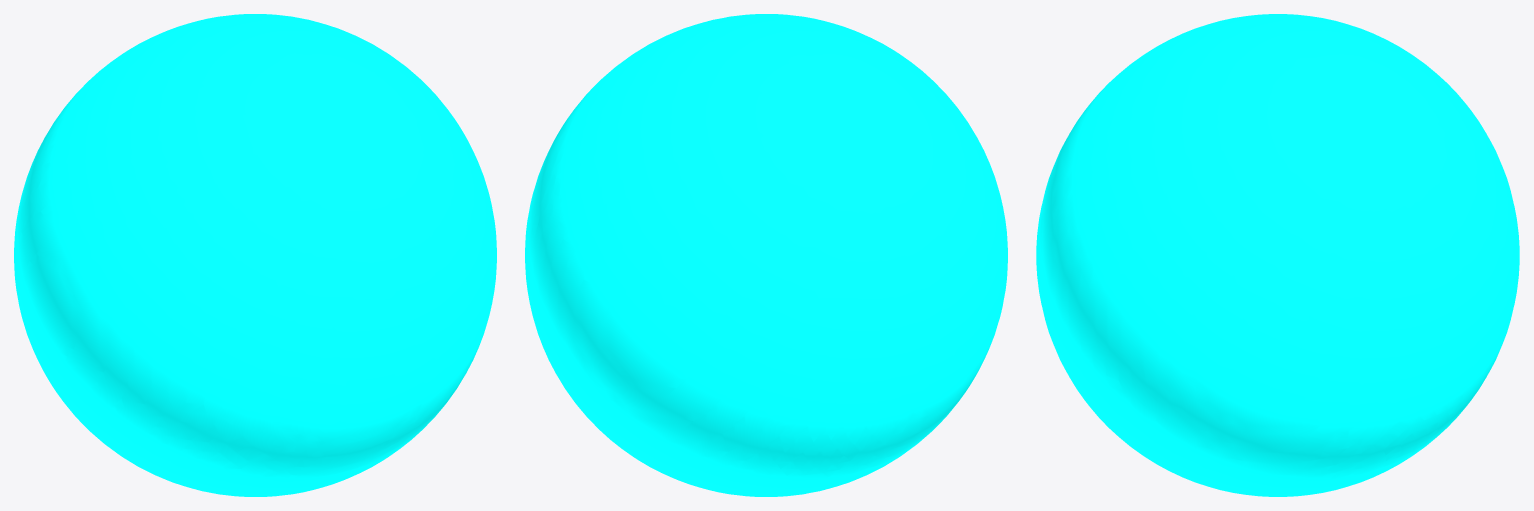
The model's file is orbital_n2_l0_m0_complex_phase.fbx.
3 renders of one model, left to right at view 1: azimuth 30°, elevation 25°; view 2: azimuth 150°, elevation 25°; view 3: azimuth 270°, elevation 25°, orthographic.
Parts seen in each view (by area): view 1: orbital_n2_l0_m0_complex_phase; view 2: orbital_n2_l0_m0_complex_phase; view 3: orbital_n2_l0_m0_complex_phase.
Boxes of the visible parts, bbox=[...] form: orbital_n2_l0_m0_complex_phase: bbox=[14, 14, 496, 496]; orbital_n2_l0_m0_complex_phase: bbox=[525, 14, 1007, 496]; orbital_n2_l0_m0_complex_phase: bbox=[1036, 14, 1519, 496].
Bounding box in the file's own units: 1442 × 1442 × 1442.
